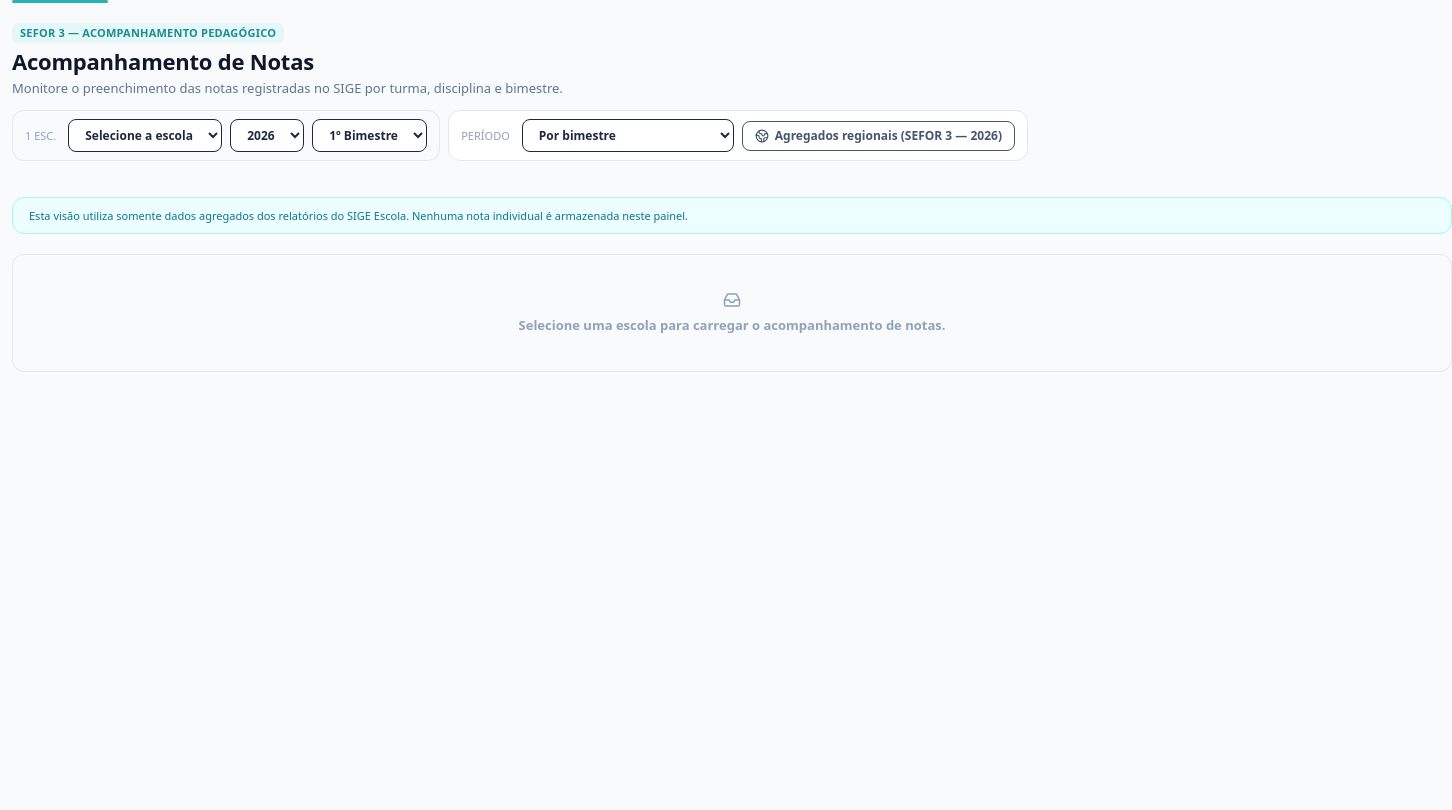
Test case: NotasView › botão "Registrar relatório do SIGE" › não aparece quando a fonte de acompanhamento falhou
Select "EEM Diva Cabral" in the dropdown named "Escola": (145,136) [68,119,222,152]
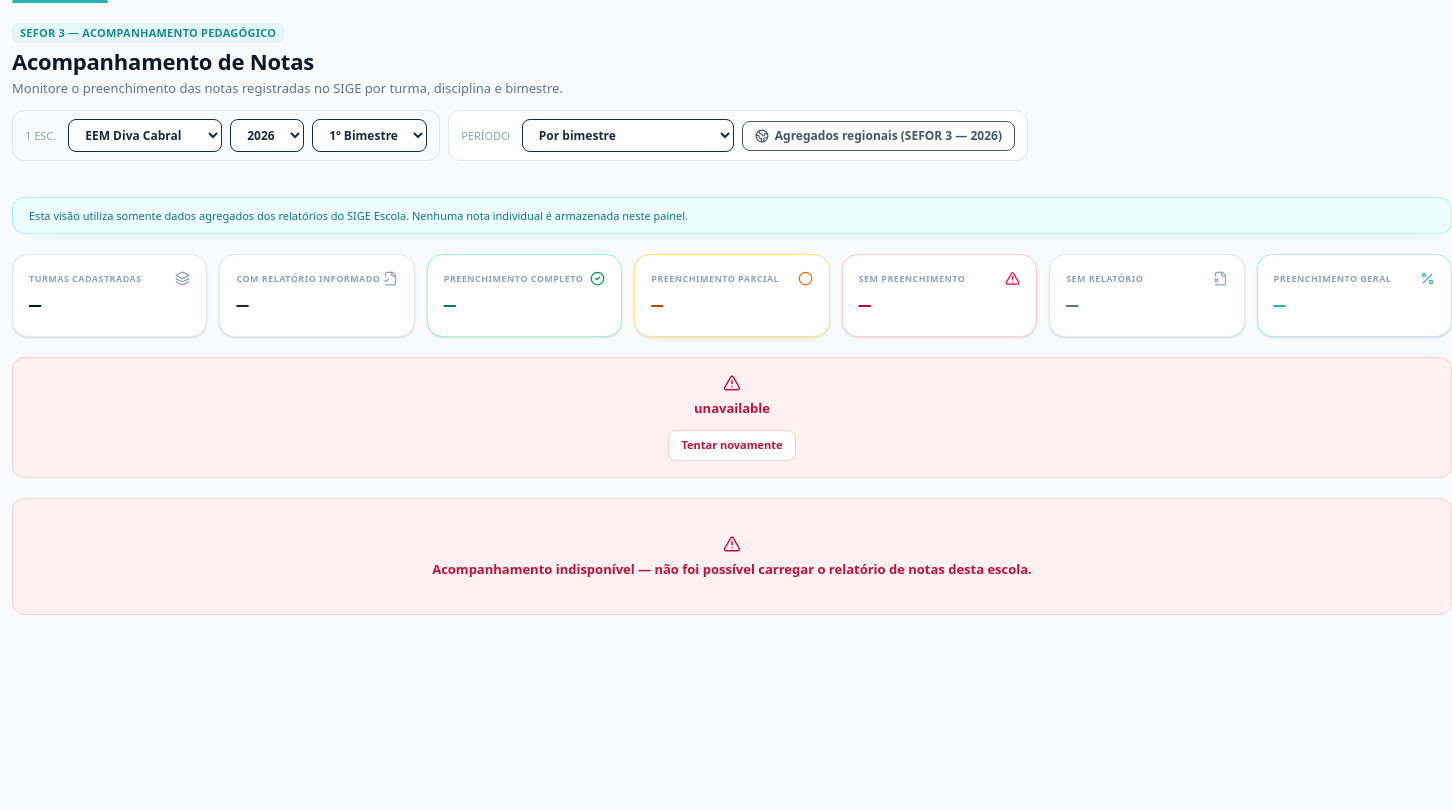
Expected: the text "Acompanhamento indisponível" is shown, [432,560,1032,578]
